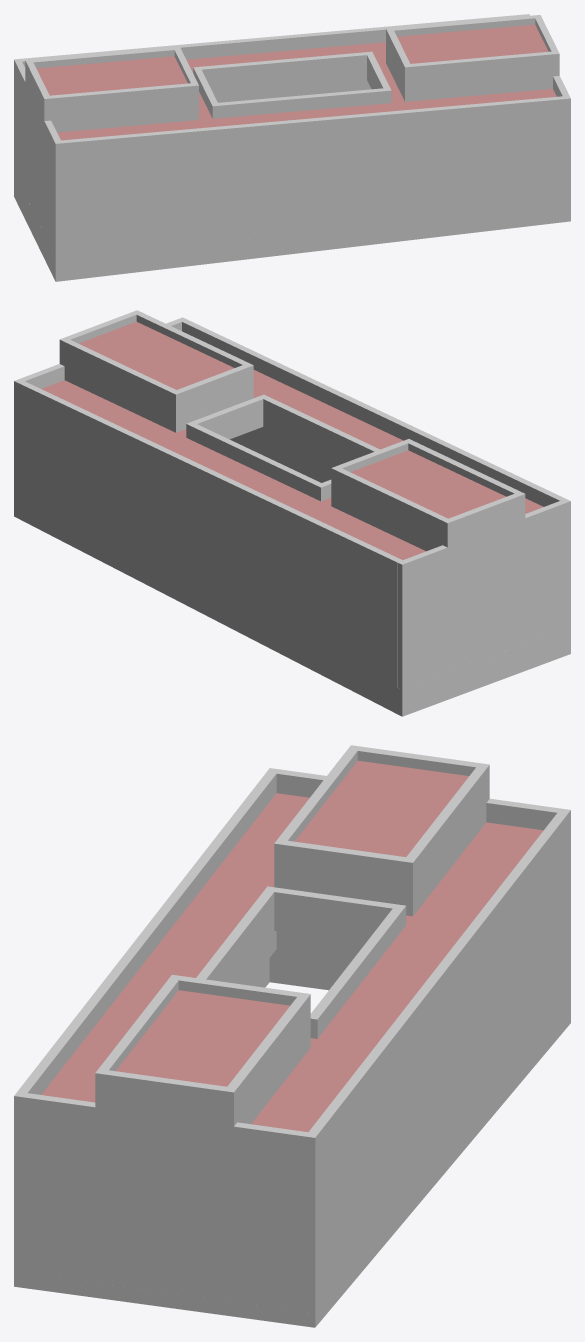
Rendered from LOD_Block_3_79.glb.
3 views of the same model, one above another, from view 1: azimuth 30°, elevation 25°; view 2: azimuth 150°, elevation 25°; view 3: azimuth 270°, elevation 25° (orthographic). The views are drawn at different scales.
Visible parts, largest first — view 1: mesh_CityEngineMaterial_1276; view 2: mesh_CityEngineMaterial_1276; view 3: mesh_CityEngineMaterial_1276.
Boxes of the visible parts, left/top/right/bottom form: mesh_CityEngineMaterial_1276: left=14, top=14, right=570, bottom=281; mesh_CityEngineMaterial_1276: left=14, top=310, right=570, bottom=716; mesh_CityEngineMaterial_1276: left=14, top=745, right=570, bottom=1327.
Size of the model in its own units: 40.87 by 12.8 by 26.01.
